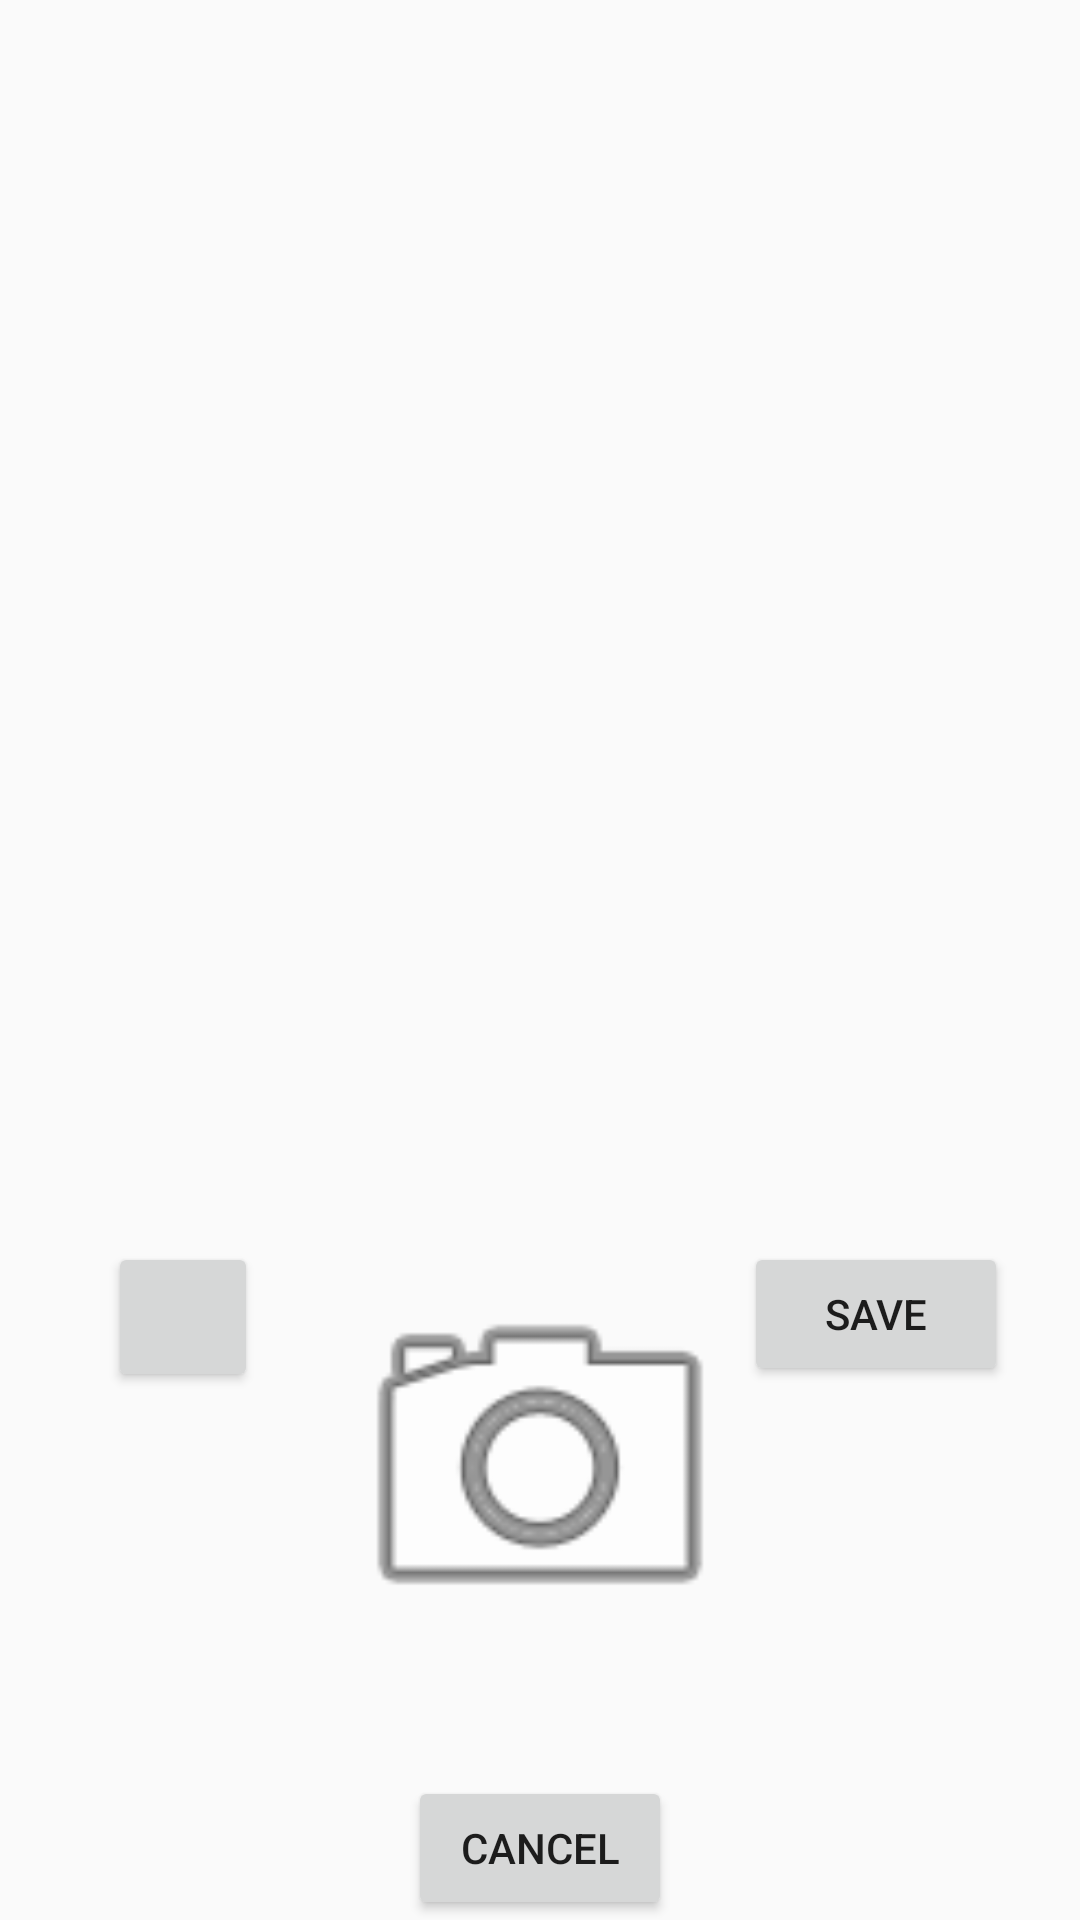

Icon click points for this 1080*1920 phone screenshot, format [x,y]:
camera: [540,1454]
